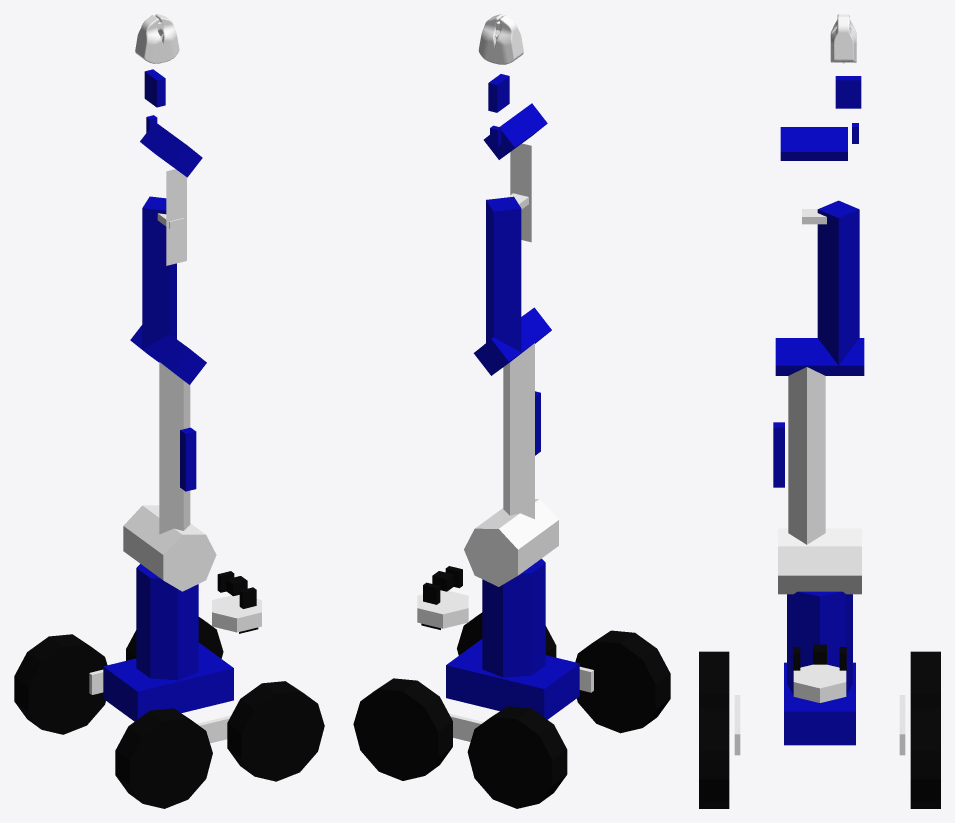
The picture shows the model from 3 angles, left to right: view 1: azimuth 30°, elevation 25°; view 2: azimuth 150°, elevation 25°; view 3: azimuth 270°, elevation 25°; orthographic projection. The views are drawn at different scales.
Parts seen in each view (by area): view 1: wheel_pz, wheel_pp, wheel_lz, model_klb1, base_link, model_klb2, link_2_3, link_3_4, link_4_5, model_klb3, link_4_5x, veza (+5 smaller); view 2: wheel_lz, wheel_lp, wheel_pz, model_klb1, base_link, link_3_4, model_klb2, link_2_3, model_klb3, veza, link_4_5, link_4_5x (+4 smaller); view 3: link_2_3, link_3_4, model_klb2, model_klb1, base_link, wheel_lp, wheel_pp, model_klb3, link_4_5x, veza, wheel_lz, wheel_pz (+3 smaller).
Part boxes in pixels (x1=…): wheel_pz: x1=115, y1=708, x2=212, y2=808; wheel_pp: x1=227, y1=681, x2=324, y2=781; wheel_lz: x1=14, y1=634, x2=107, y2=734; model_klb1: x1=136, y1=564, x2=198, y2=680; base_link: x1=103, y1=643, x2=233, y2=721; model_klb2: x1=123, y1=505, x2=216, y2=591; link_2_3: x1=159, y1=362, x2=190, y2=534; link_3_4: x1=142, y1=196, x2=176, y2=348; link_4_5: x1=166, y1=169, x2=186, y2=265; model_klb3: x1=130, y1=325, x2=206, y2=384; link_4_5x: x1=140, y1=122, x2=202, y2=177; veza: x1=212, y1=595, x2=261, y2=632; wheel_lz: x1=467, y1=706, x2=567, y2=808; wheel_lp: x1=353, y1=678, x2=452, y2=780; wheel_pz: x1=575, y1=630, x2=670, y2=733; model_klb1: x1=482, y1=558, x2=545, y2=677; base_link: x1=446, y1=639, x2=579, y2=719; link_3_4: x1=486, y1=196, x2=521, y2=352; model_klb2: x1=464, y1=499, x2=558, y2=586; link_2_3: x1=503, y1=343, x2=534, y2=519; model_klb3: x1=473, y1=307, x2=551, y2=375; veza: x1=417, y1=590, x2=468, y2=628; link_4_5: x1=510, y1=143, x2=531, y2=242; link_4_5x: x1=483, y1=103, x2=547, y2=159; link_2_3: x1=788, y1=367, x2=825, y2=544; link_3_4: x1=817, y1=200, x2=859, y2=365; model_klb2: x1=778, y1=528, x2=861, y2=594; model_klb1: x1=787, y1=591, x2=852, y2=695; base_link: x1=784, y1=662, x2=855, y2=745; wheel_lp: x1=910, y1=708, x2=940, y2=808; wheel_pp: x1=699, y1=708, x2=729, y2=808; model_klb3: x1=775, y1=338, x2=864, y2=375; link_4_5x: x1=780, y1=127, x2=847, y2=160; veza: x1=793, y1=664, x2=846, y2=702; wheel_lz: x1=910, y1=651, x2=940, y2=708; wheel_pz: x1=699, y1=651, x2=729, y2=708.
Bounding box in the file's own units: 0.5055 × 0.52 × 1.8.
